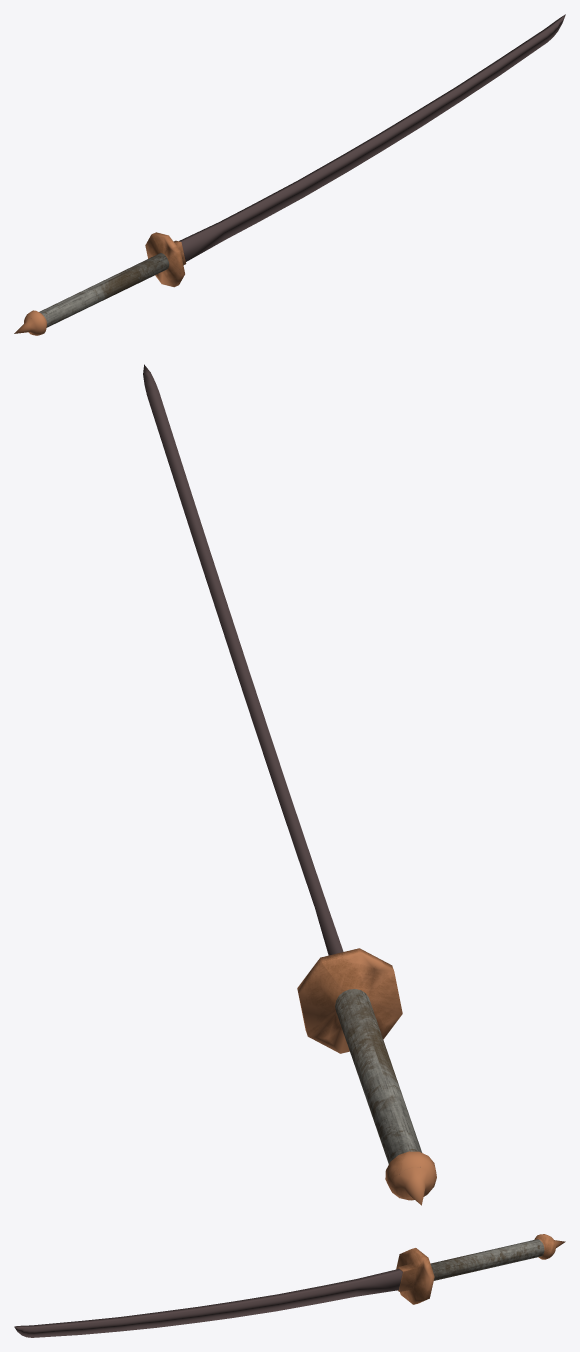
The model's file is Anim_idle_katana_objetos.0055.obj.
3 views of the same model, one above another, from view 1: azimuth 90°, elevation 25°; view 2: azimuth 150°, elevation 25°; view 3: azimuth 270°, elevation 25° (orthographic). The views are drawn at different scales.
Parts seen in each view (by area): view 1: Katana1; view 2: Katana1; view 3: Katana1.
Part boxes in pixels (x1,y1,x2,y2): Katana1: (14, 14, 565, 335); Katana1: (143, 364, 436, 1205); Katana1: (14, 1234, 565, 1337).
Bounding box in the file's own units: 3.46 × 1 × 3.98.
